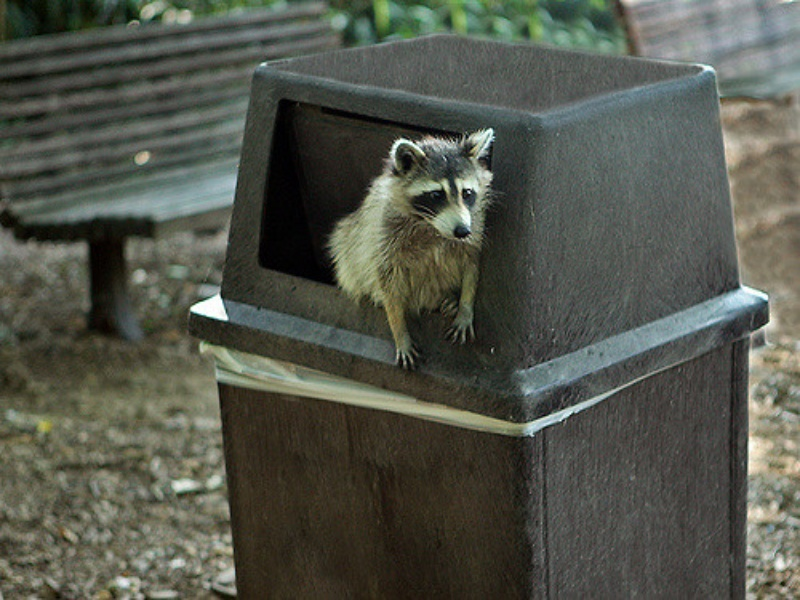raccoon: (326, 127, 497, 375)
